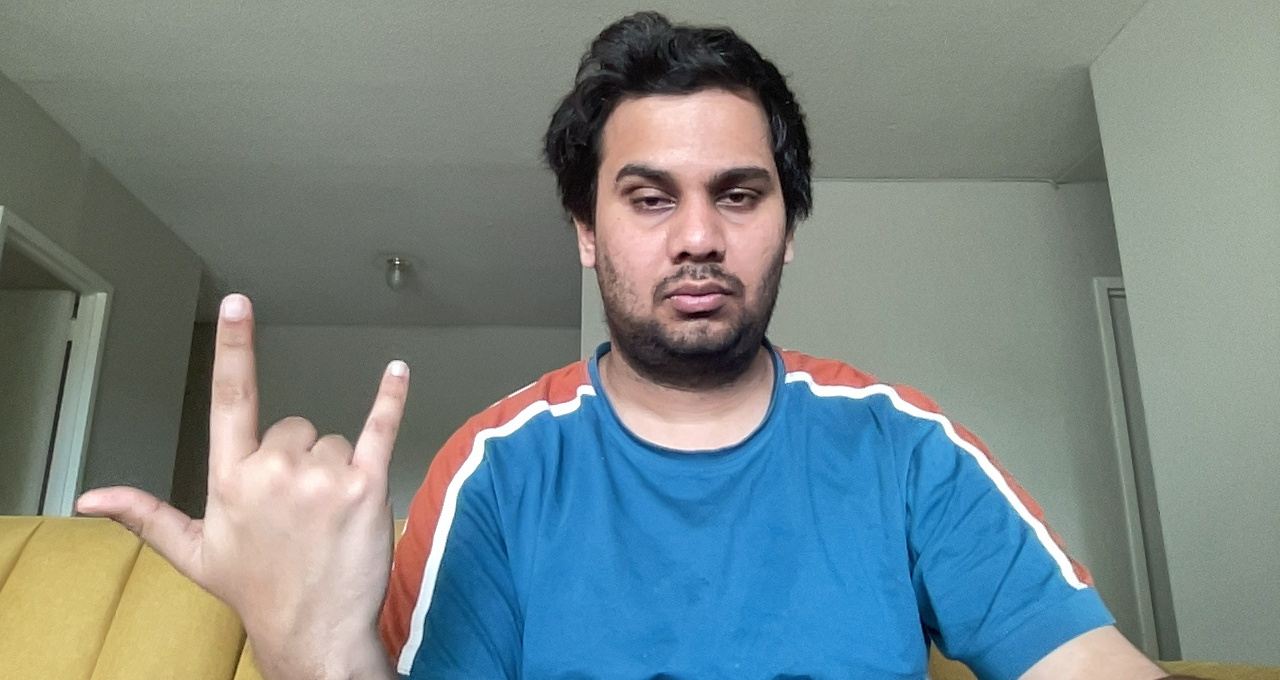rockon sign: (73, 265, 425, 650)
